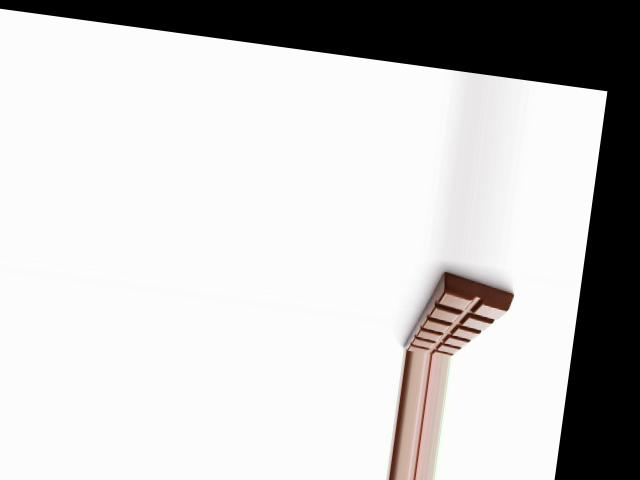chocolate: (397, 264, 516, 363)
